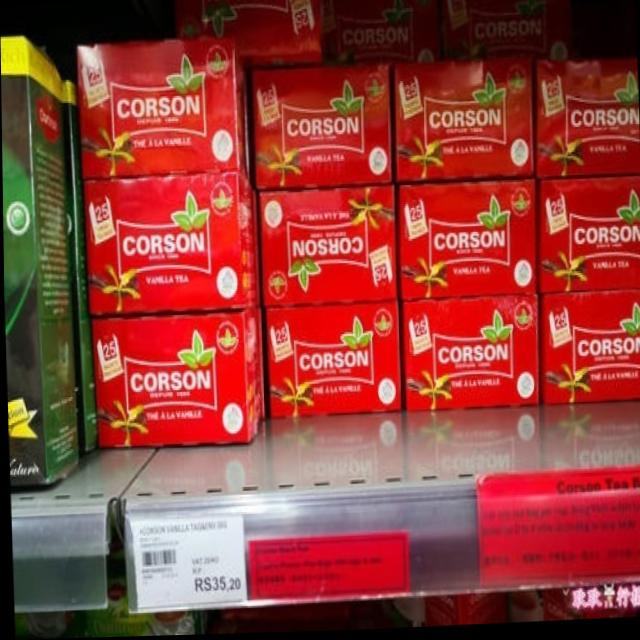box: (0, 33, 78, 492), (83, 173, 256, 315), (89, 309, 259, 450), (78, 40, 247, 180), (393, 59, 535, 184), (252, 65, 392, 189), (256, 186, 396, 308), (397, 180, 536, 301), (399, 295, 538, 414), (263, 303, 400, 420), (534, 60, 640, 182), (60, 80, 94, 452), (535, 178, 640, 297), (539, 291, 640, 407), (173, 0, 323, 76), (83, 549, 200, 638), (436, 0, 573, 61), (333, 0, 439, 65), (379, 595, 506, 629), (505, 592, 624, 623), (12, 612, 69, 640), (257, 310, 265, 418)
